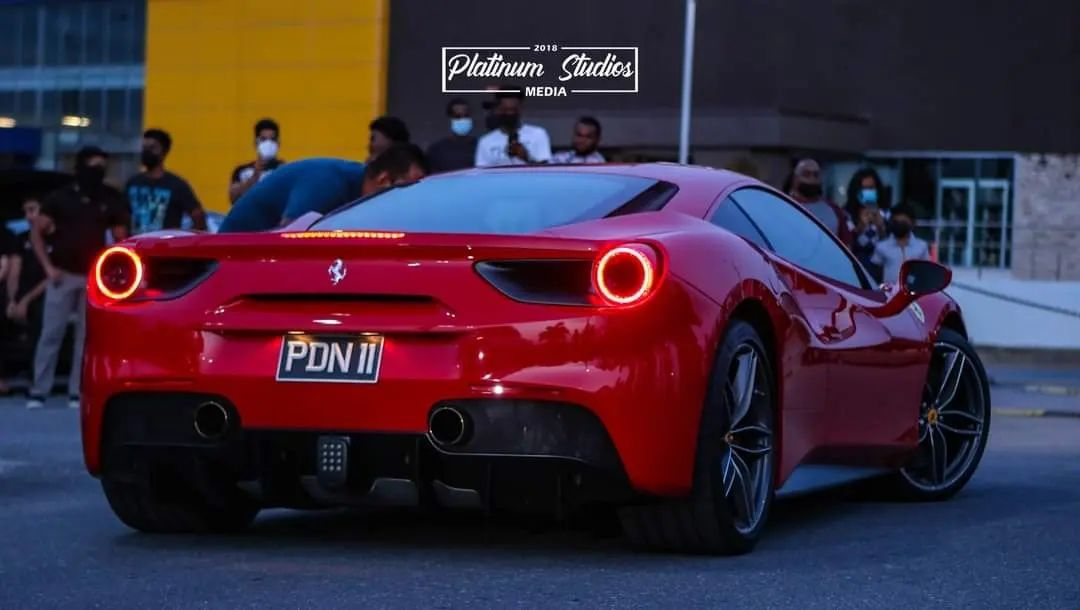License-Plate: (281, 335, 378, 375)
